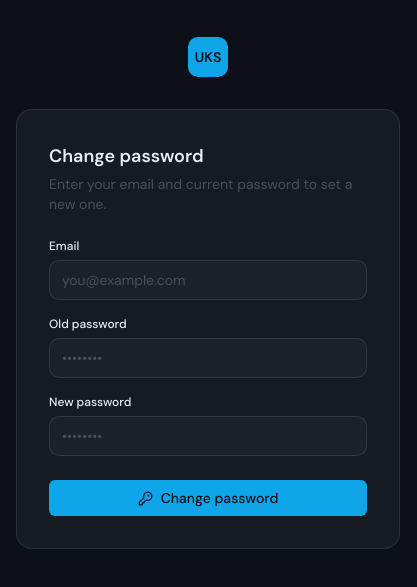
Test: ChangePasswordPage › prikazuje gresku za newPassword kraći od 8 znakova
In the field labelled "Email": (208, 280) [50,261,366,299], type "test@test.com"
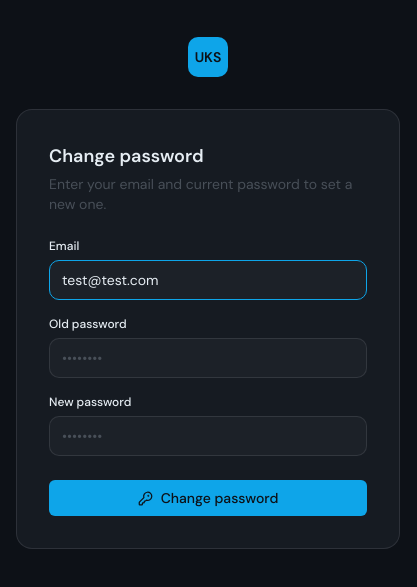
In the password field labelled "Old password": (208, 358) [50,339,366,377], type "OldPass1"
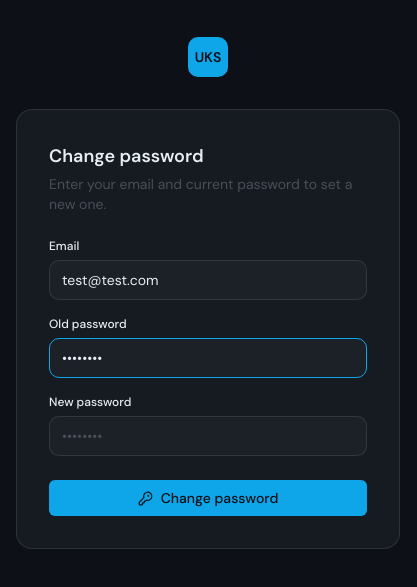
In the password field labelled "New password": (208, 436) [50,417,366,455], type "Ab1"
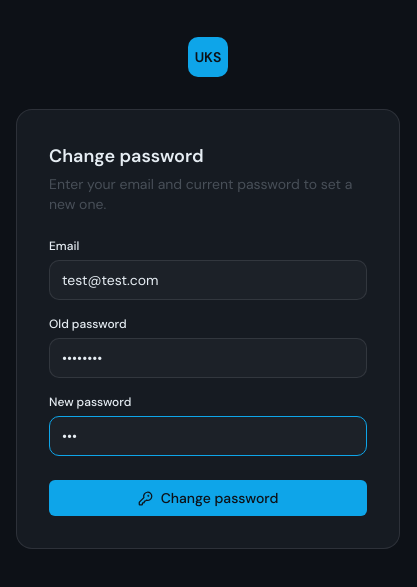
Click the button "Change password": (208, 498) [49,480,367,516]
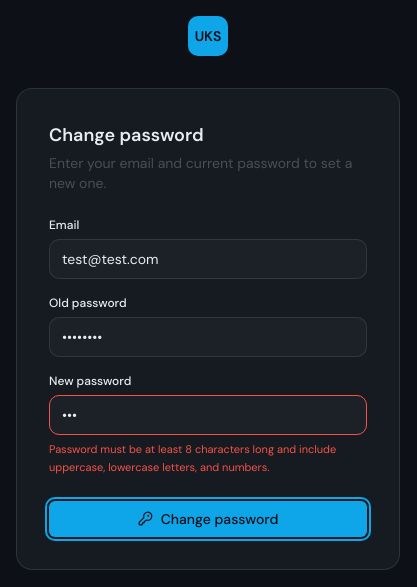
Now the text "at least 8 characters" is shown, box [49,442,336,474]
